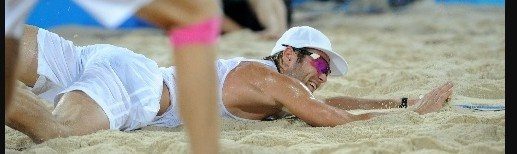falling: (9, 16, 454, 151)
